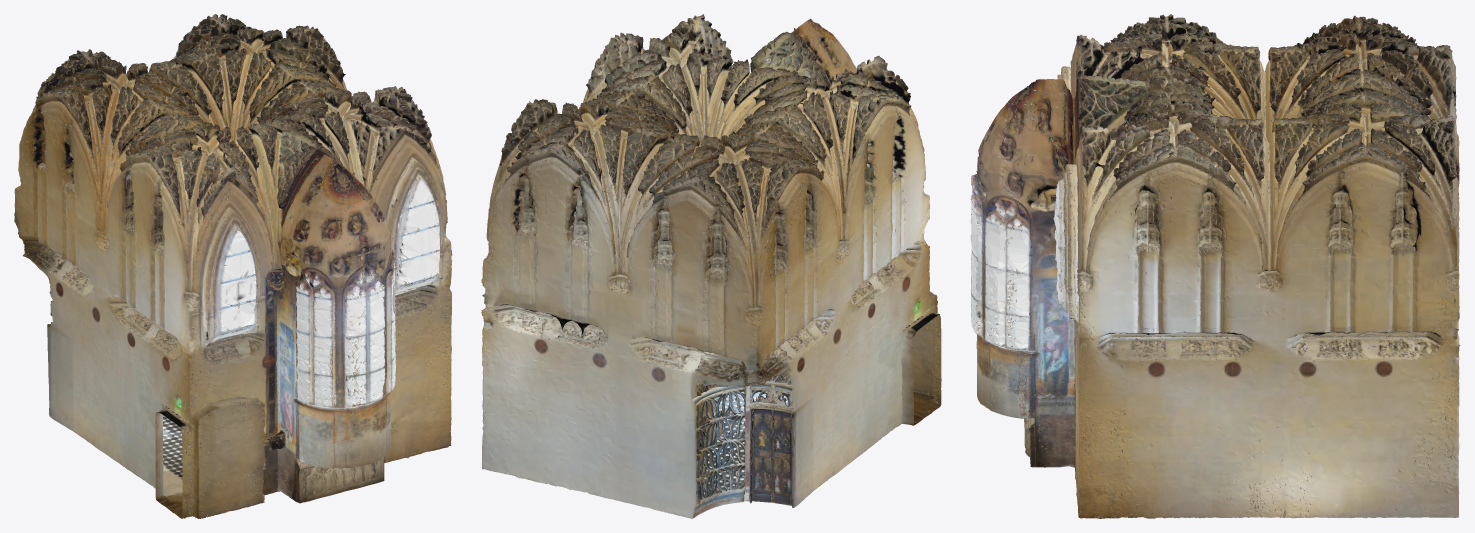
File: sf-paris-musee-de-cluny-chapel-d4da9f.glb
3 renders of one model, left to right at view 1: azimuth 30°, elevation 25°; view 2: azimuth 150°, elevation 25°; view 3: azimuth 270°, elevation 25°, orthographic. The views are drawn at different scales.
Visible parts, largest first — view 1: default.001_0; view 2: default.001_0; view 3: default.001_0.
Part boxes in pixels (bbox=[...]): default.001_0: bbox=[14, 14, 452, 518]; default.001_0: bbox=[481, 14, 941, 518]; default.001_0: bbox=[970, 14, 1460, 518].
Bounding box in the file's own units: 17.37 × 20.2 × 24.09.
Materials: 1 (1 with a texture image).
